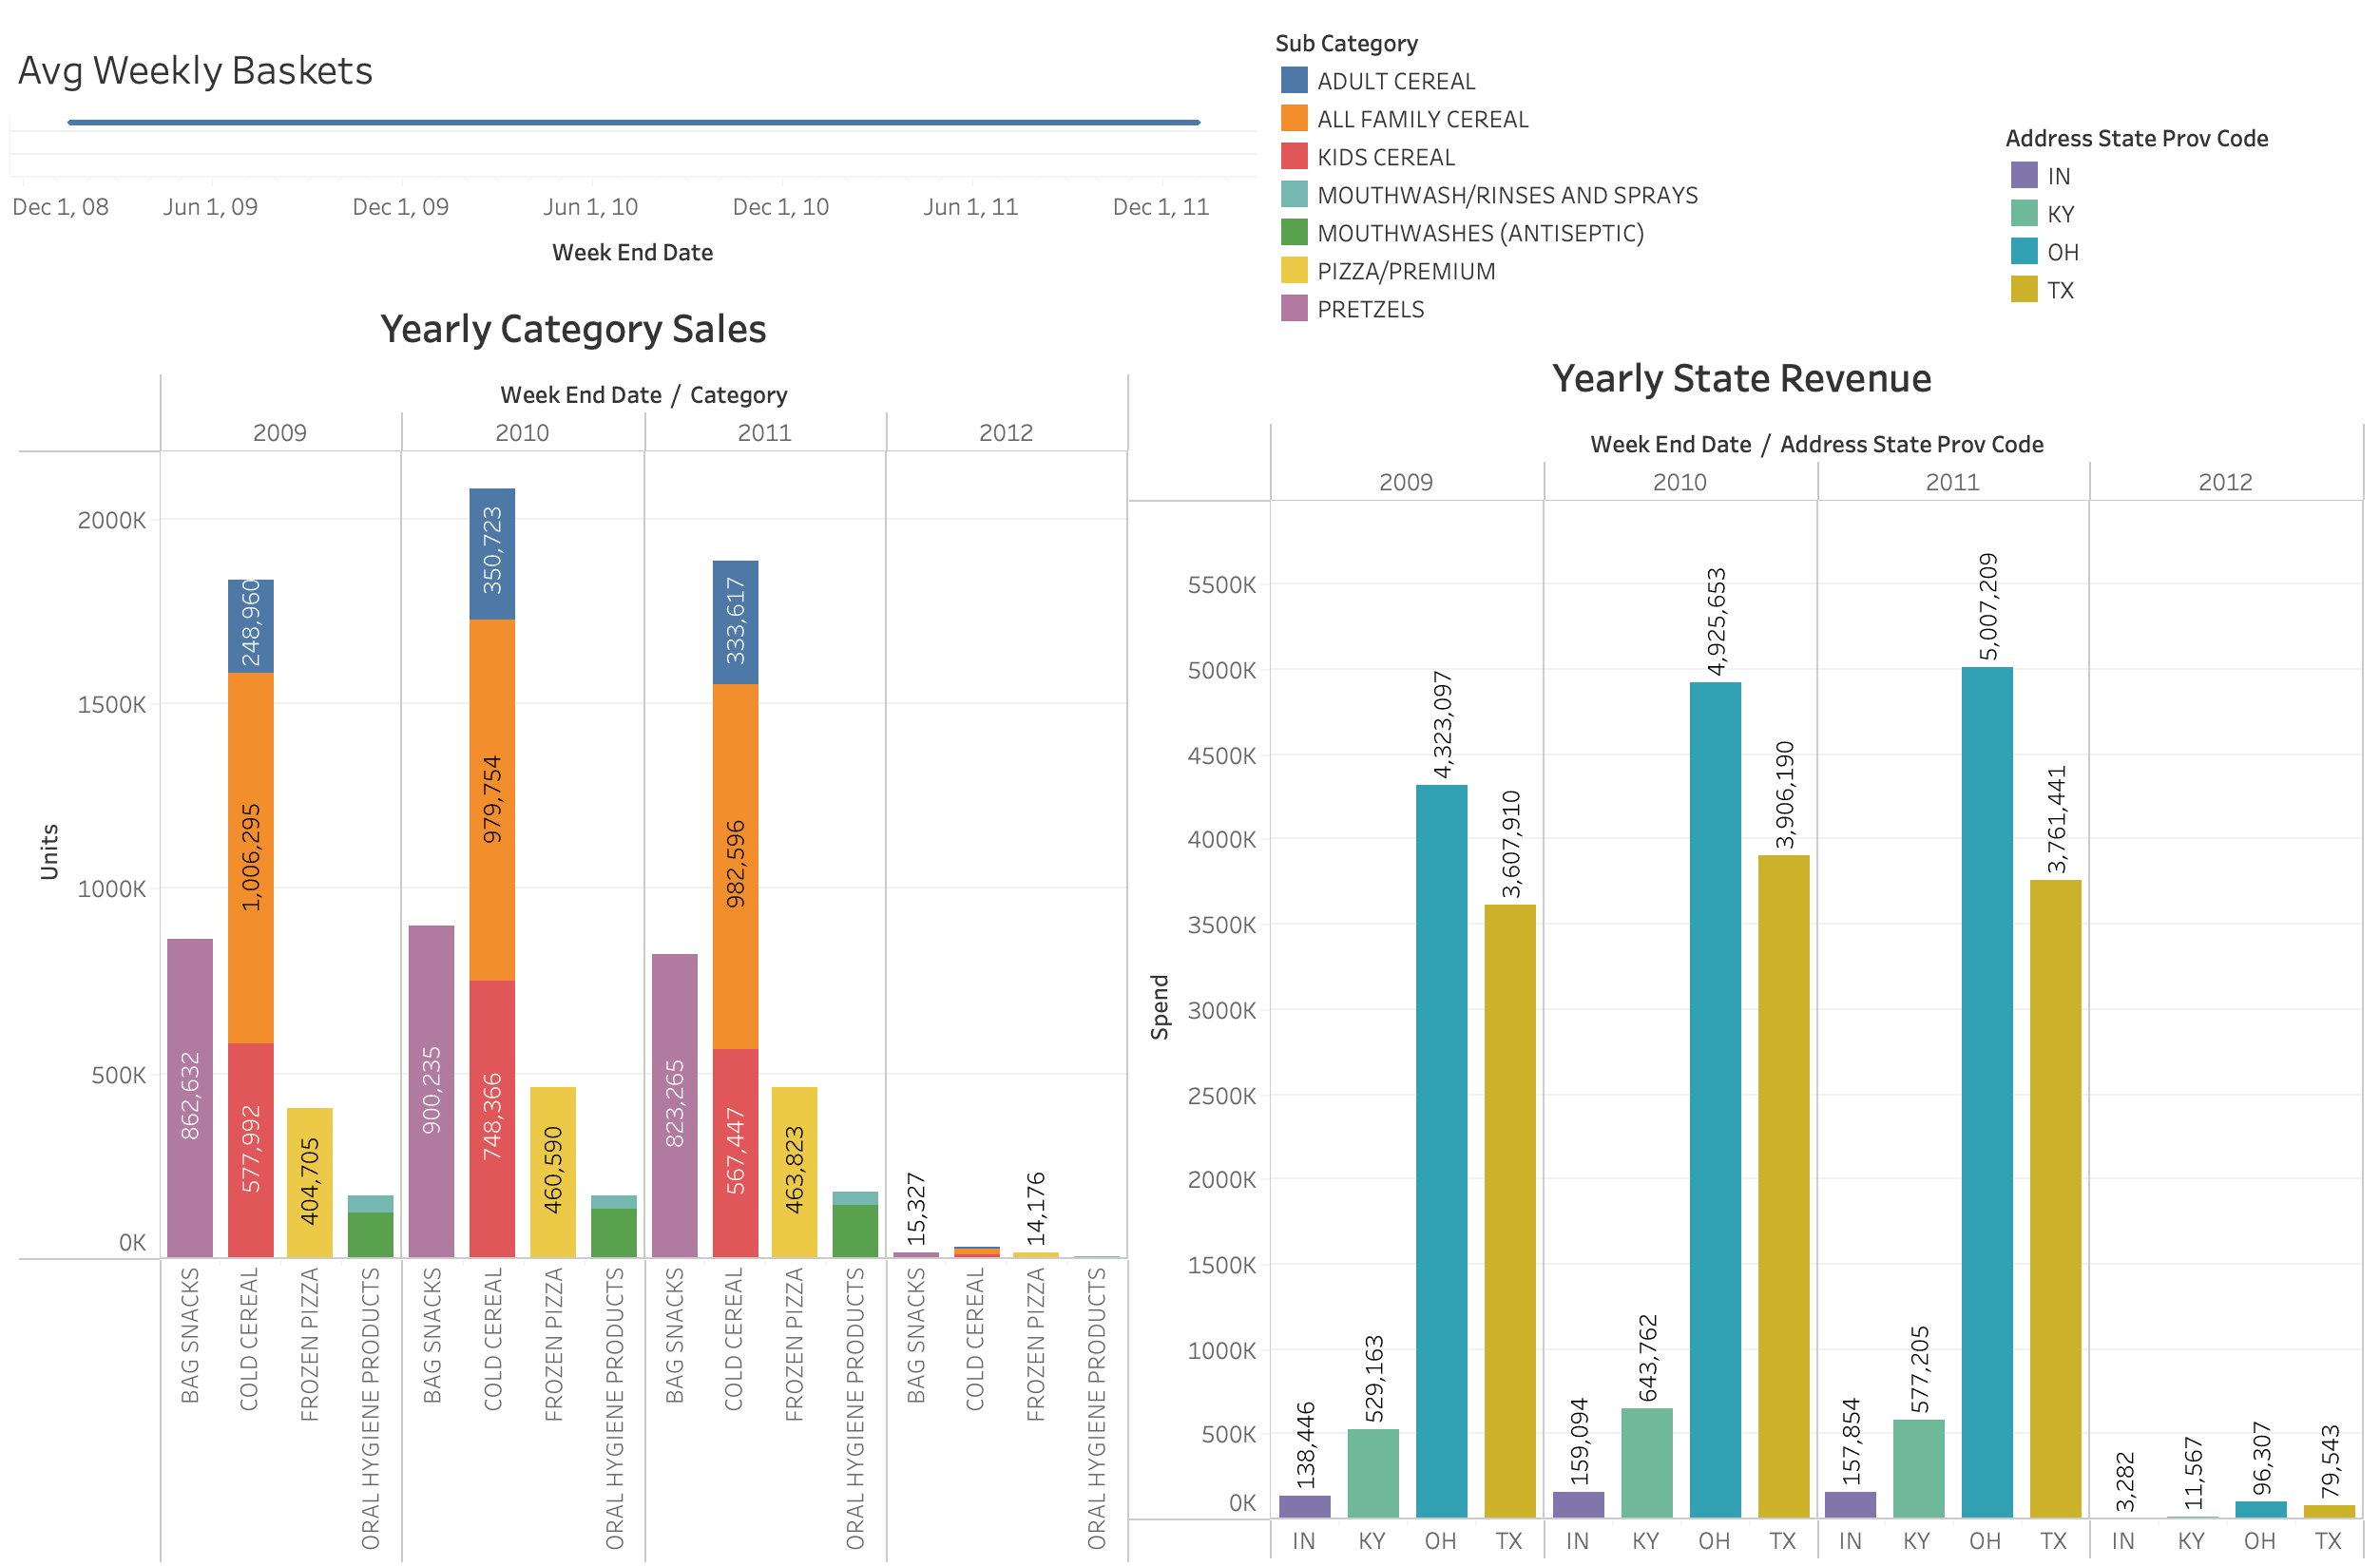

Layout of this report page (visuals, bound fields, positions):
{"tool":"tableau","page":{"name":"Dashboard 4","canvas":[1000,1000],"units":"permille","ordinal":3},"visuals":[{"type":"legend","title":"Yearly Category Sales","param":"[federated.0b9tcao10p7oo3181pcsg1bhddsc].[none:SUB_CATEGORY:nk]","box":[536,20,227,197.5]},{"type":"worksheet","title":"Avg Weekly Baskets","mark":"Automatic","rows":["AVG_WEEKLY_BASKETS"],"cols":["WEEK_END_DATE"],"box":[7,25,521,157.5]},{"type":"legend","title":"Yearly State Revenue ","param":"[federated.0b9tcao10p7oo3181pcsg1bhddsc].[none:ADDRESS_STATE_PROV_CODE:nk]","box":[841,81.2,140,122.5]},{"type":"worksheet","title":"Yearly Category Sales","mark":"Automatic","rows":["UNITS"],"cols":["WEEK_END_DATE","CATEGORY"],"box":[11,190,464,807.5]},{"type":"worksheet","title":"Yearly State Revenue ","mark":"Bar","rows":["SPEND"],"cols":["WEEK_END_DATE","ADDRESS_STATE_PROV_CODE"],"box":[475,221.2,516,773.8]}]}

Visuals, with their boxes on the dashboard's canvas, which has no fixed pixel size, in thousandths of its width and height (x1, y1, x2, y2). These are canvas units, not pixel positions in the 2380x1566 screenshot, which may show the page scaled, cropped or inside an application window:
"Yearly Category Sales" legend: select_region(536, 20, 763, 218)
"Avg Weekly Baskets" worksheet: select_region(7, 25, 528, 182)
"Yearly State Revenue " legend: select_region(841, 81, 981, 204)
"Yearly Category Sales" worksheet: select_region(11, 190, 475, 998)
"Yearly State Revenue " worksheet (Bar marks): select_region(475, 221, 991, 995)
